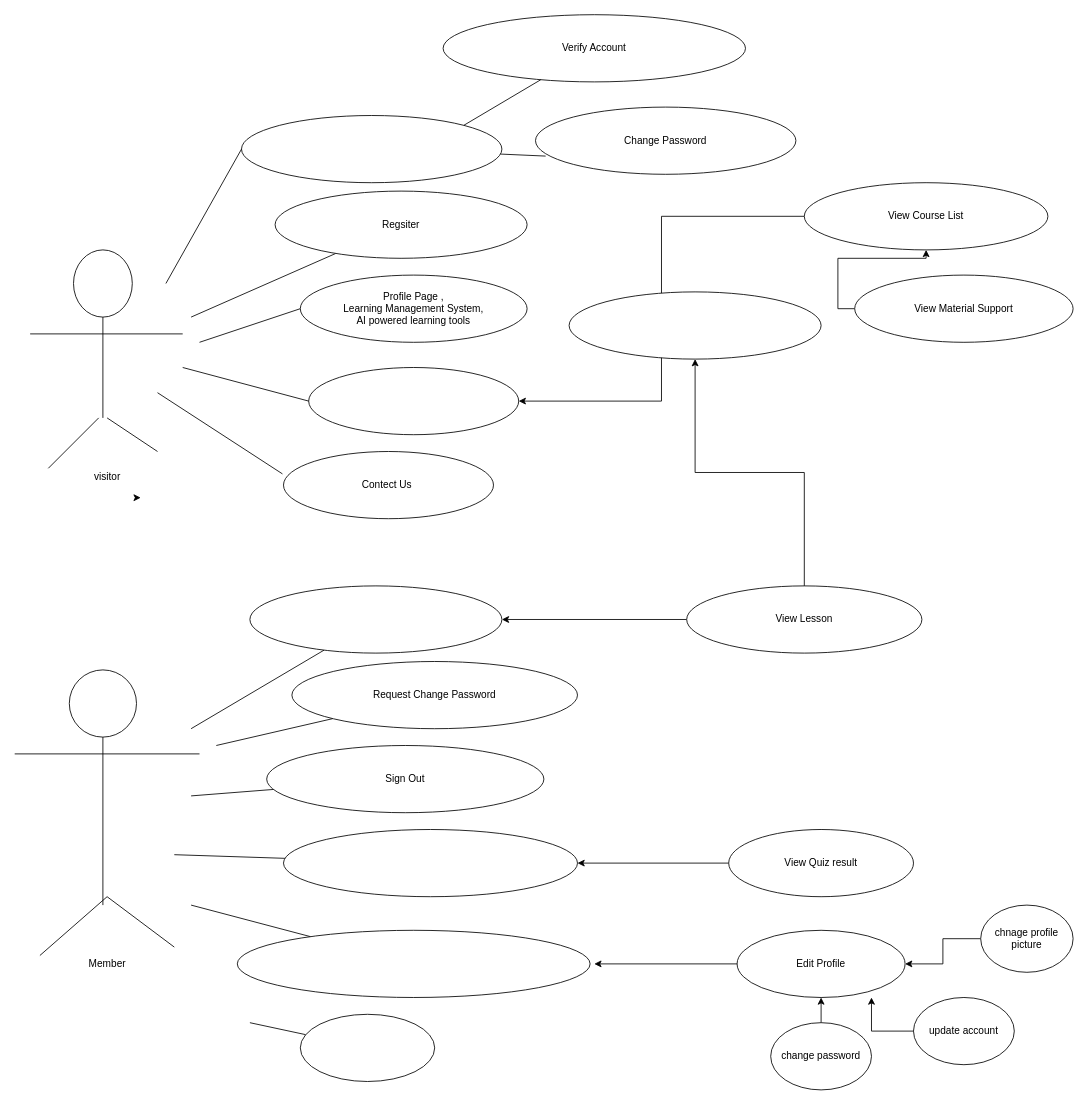
Some shapes in this 1088 by 1105 pixel diagram are drawn without their labels. Here are the shapes that lost their labels. From the top down, the centre of each, then its label:
pixel 371 149: Sign Up
pixel 694 325: View Topic
pixel 413 401: View Prev Course/New Courses
pixel 375 619: Record Progress
pixel 430 863: Take Quiz
pixel 413 963: View dashboard
pixel 367 1047: Forum
